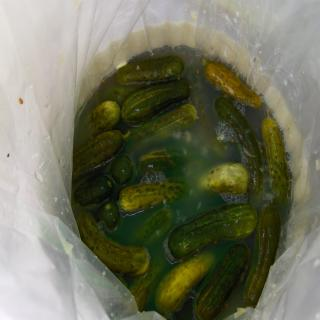Cucumber: (72, 54, 290, 320), (116, 53, 186, 82)
